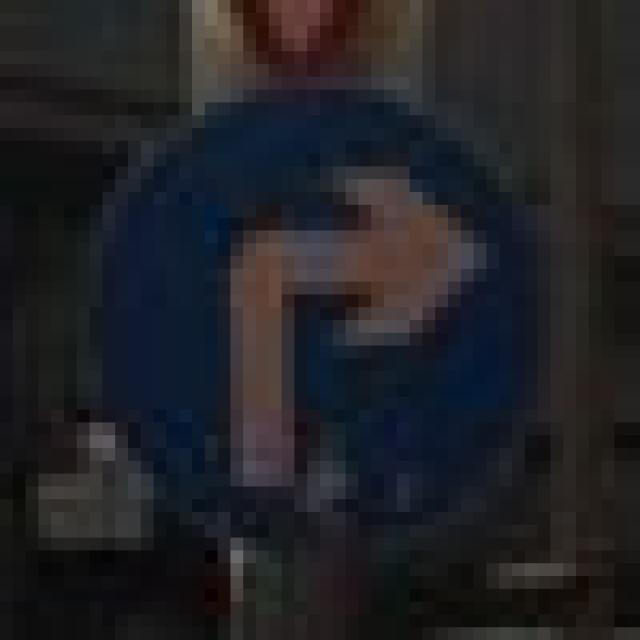railway_crossing: (77, 64, 525, 525)
